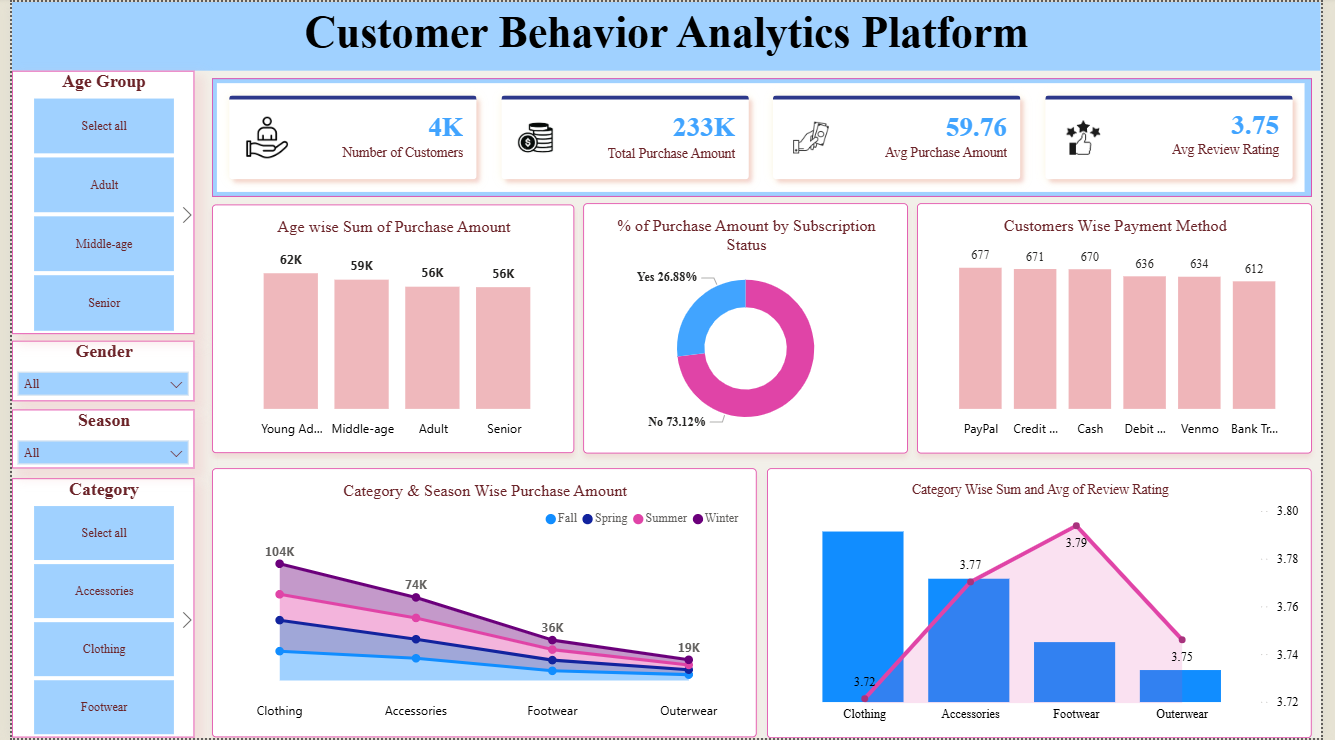

The page's visual inventory and layout, read from the dashboard file:
{"tool":"powerbi","page":{"name":"Customer behavior analytics","canvas":[1280,720],"ordinal":0},"visuals":[{"type":"cardVisual","fields":{"Data":["db customer_shopping.number of customers","Sum(db customer_shopping.purchase_amount)","db customer_shopping.average purchase amount","db customer_shopping.average review rating"]},"box":[195.7,74.6,1076.1,116.2],"z":0},{"type":"donutChart","title":"% of Purchase Amount by Subscription Status","fields":{"Category":["db customer_shopping.subscription_status"],"Y":["Sum(db customer_shopping.purchase_amount)"]},"box":[558.8,196.9,317.9,244.6],"z":1000},{"type":"columnChart","title":" Age wise Sum of Purchase Amount","fields":{"Category":["db customer_shopping.age_group"],"Y":["Sum(db customer_shopping.purchase_amount)"]},"box":[195.7,198.1,354.6,243.3],"z":2000},{"type":"columnChart","title":"Customers Wise Payment Method","fields":{"Category":["db customer_shopping.payment_method"],"Y":["db customer_shopping.number of customers"]},"box":[885.3,196.9,386.4,244.6],"z":3000},{"type":"textbox","box":[0,0,1280.3,67.3],"z":4000},{"type":"slicer","title":"Category","fields":{"Values":["db customer_shopping.category"]},"box":[0,466.5,178.5,253.5],"z":5000},{"type":"slicer","title":"Gender","fields":{"Values":["db customer_shopping.gender"]},"box":[0,331.1,178.5,59.1],"z":6000},{"type":"slicer","title":"Age Group","fields":{"Values":["db customer_shopping.age_group"]},"box":[0,67.7,178.5,257.2],"z":7000},{"type":"slicer","title":"Season","fields":{"Values":["db customer_shopping.season"]},"box":[0,398.8,178.5,57.8],"z":8000},{"type":"stackedAreaChart","title":" Category & Season Wise Purchase Amount","fields":{"Category":["db customer_shopping.category"],"Y":["Sum(db customer_shopping.purchase_amount)"],"Series":["db customer_shopping.season"]},"box":[195.7,456.6,532.9,263.4],"z":9000},{"type":"lineClusteredColumnComboChart","title":"Category Wise Sum  and Avg of Review Rating ","fields":{"Category":["db customer_shopping.category"],"Y":["Sum(db customer_shopping.review_rating)"],"Y2":["Avg(db customer_shopping.review_rating)"]},"box":[738.6,456.1,533.2,264.1],"z":10000}]}

Visuals, with their boxes in screenshot pixels (x1, y1, x2, y2), scaled from the page's 1280x720 canvas onto the 1335x740 screenshot:
cardVisual - db customer_shopping.number of customers x Sum(db customer_shopping.purchase_amount): select_region(204, 77, 1326, 196)
"% of Purchase Amount by Subscription Status" donutChart: select_region(583, 202, 914, 454)
" Age wise Sum of Purchase Amount" columnChart: select_region(204, 204, 574, 454)
"Customers Wise Payment Method" columnChart: select_region(923, 202, 1326, 454)
textbox: select_region(0, 0, 1334, 69)
"Category" slicer: select_region(0, 479, 186, 739)
"Gender" slicer: select_region(0, 340, 186, 401)
"Age Group" slicer: select_region(0, 70, 186, 334)
"Season" slicer: select_region(0, 410, 186, 469)
" Category & Season Wise Purchase Amount" stackedAreaChart: select_region(204, 469, 760, 739)
"Category Wise Sum  and Avg of Review Rating " lineClusteredColumnComboChart: select_region(770, 469, 1326, 739)
